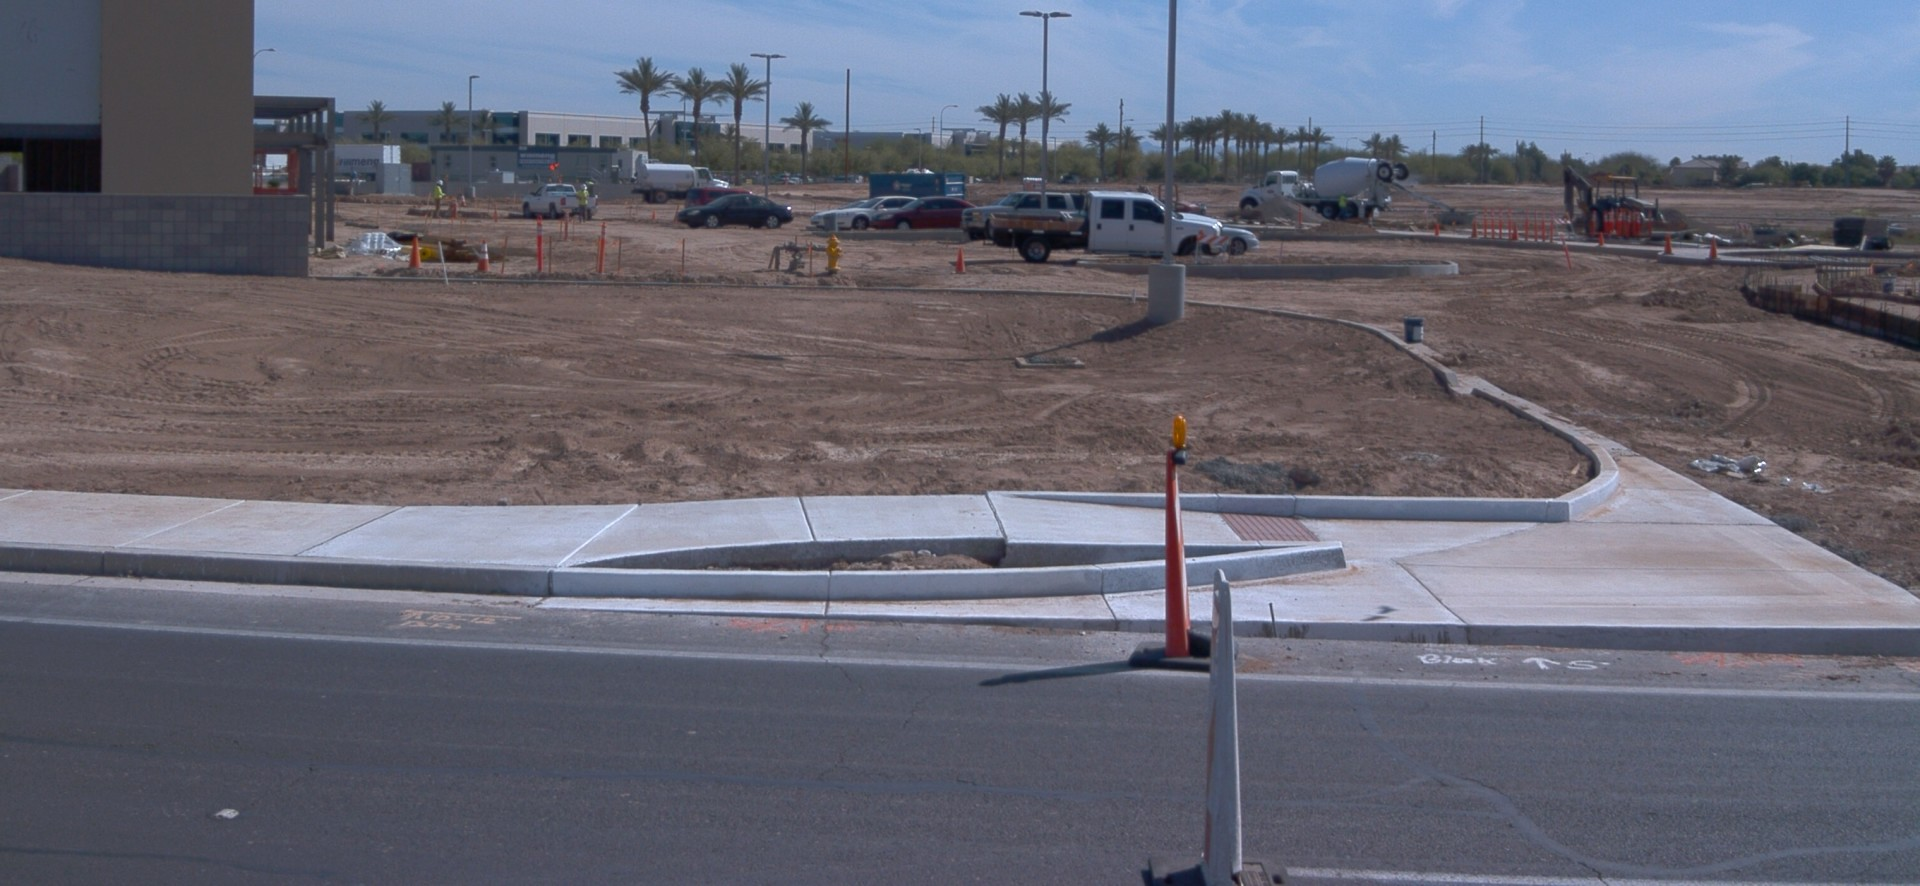TYPE_PEDESTRIAN: (433, 180, 451, 222), (576, 185, 591, 225), (1334, 189, 1350, 221)
TYPE_VEHICLE: (990, 190, 1226, 263), (1237, 157, 1463, 223), (1559, 159, 1694, 243), (960, 189, 1086, 241), (675, 192, 794, 232), (631, 160, 733, 206), (301, 139, 403, 182), (868, 192, 980, 231), (815, 194, 919, 233), (520, 181, 600, 221), (1138, 177, 1205, 217), (809, 199, 867, 231), (1205, 228, 1263, 256), (686, 188, 755, 209), (987, 187, 1025, 204)
